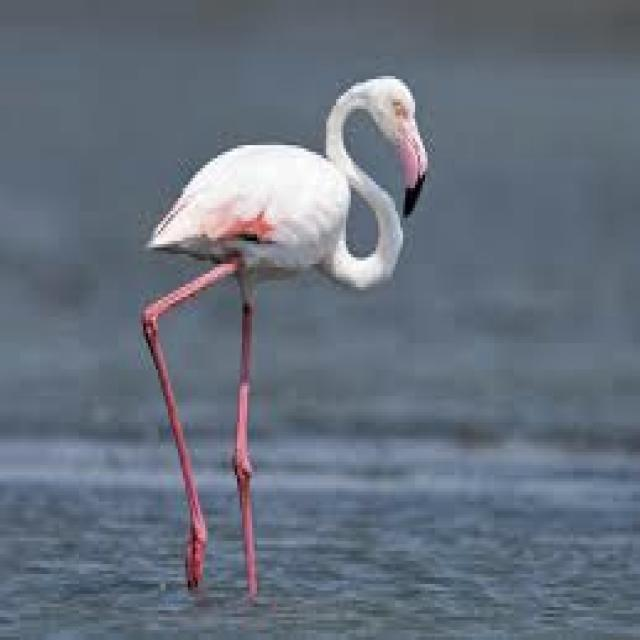flamingo: (143, 76, 425, 591)
